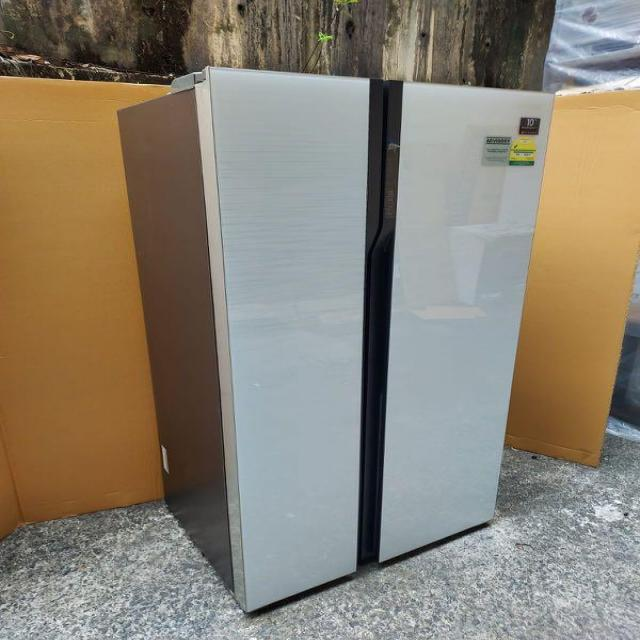refrigerator: (201, 63, 551, 606)
